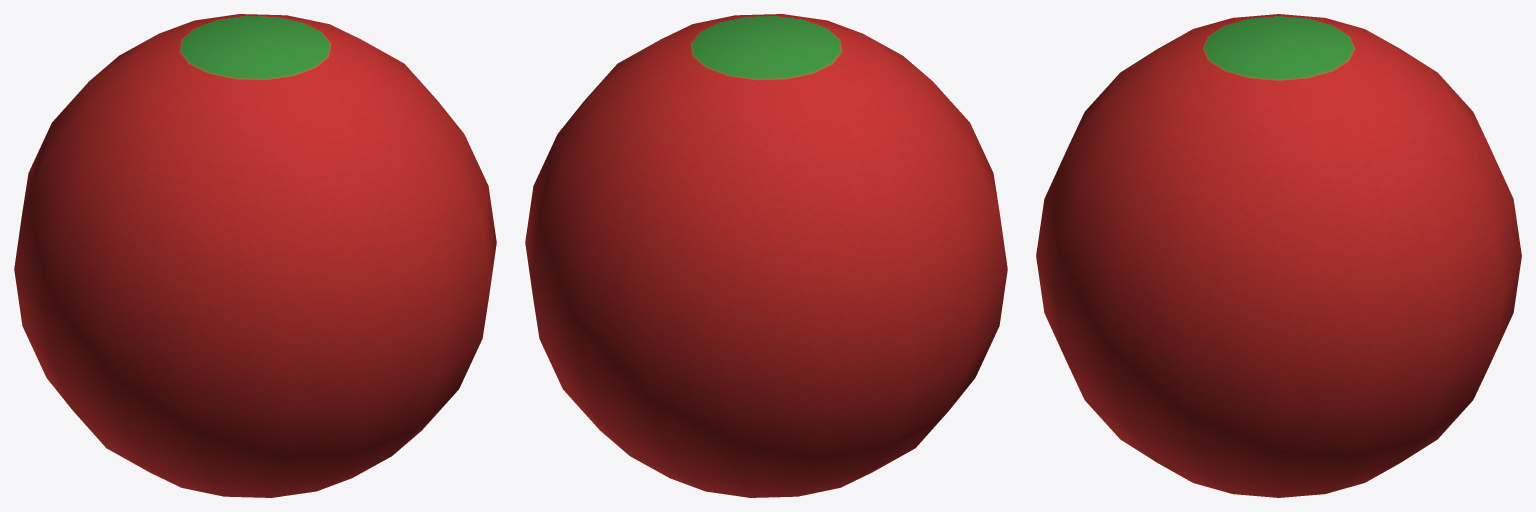
File: model_test_ingredient.obj
The picture shows the model from 3 angles, left to right: view 1: azimuth 30°, elevation 25°; view 2: azimuth 150°, elevation 25°; view 3: azimuth 270°, elevation 25°; orthographic projection.
Parts seen in each view (by area): view 1: test_asset; view 2: test_asset; view 3: test_asset.
Part boxes in pixels (left/top/right/bottom): test_asset: left=14, top=14, right=496, bottom=497; test_asset: left=525, top=14, right=1007, bottom=497; test_asset: left=1036, top=14, right=1521, bottom=497.
Bounding box in the file's own units: 1 × 1 × 1.
Materials: 1 (1 with a texture image).
